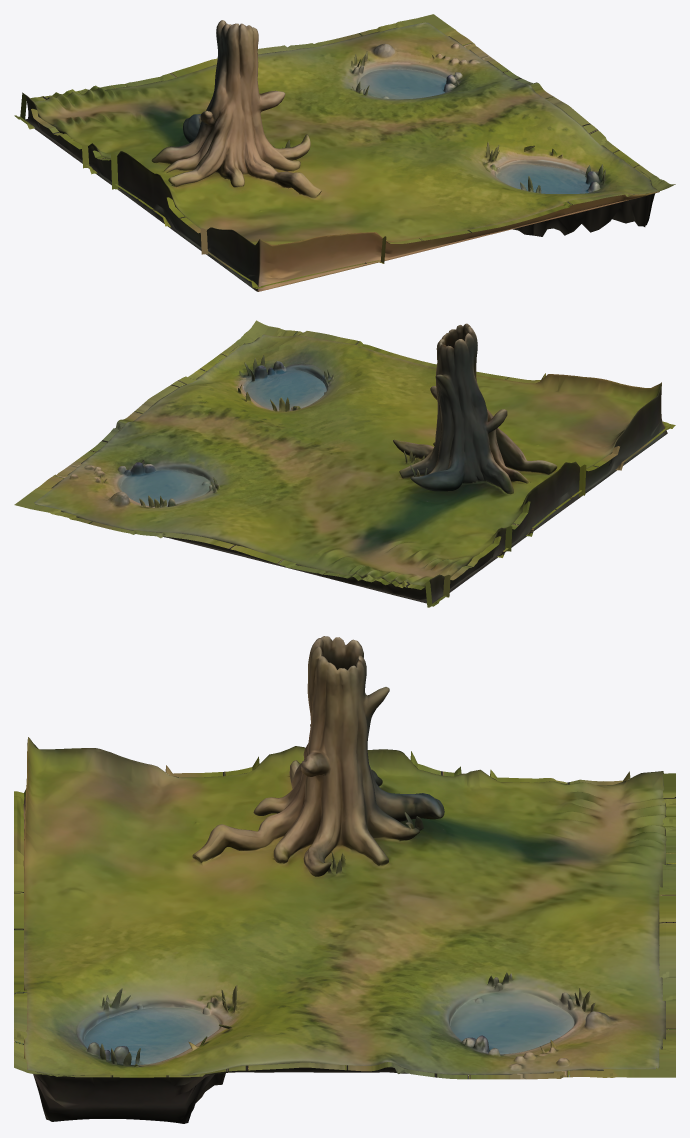
The model's file is terrain2.glb.
The picture shows the model from 3 angles, top to bottom: view 1: azimuth 30°, elevation 25°; view 2: azimuth 150°, elevation 25°; view 3: azimuth 270°, elevation 25°; orthographic projection. The views are drawn at different scales.
Visible parts, largest first — view 1: tripo_node_ec5293a2-2019-44cf-8b07-ed04359cd265; view 2: tripo_node_ec5293a2-2019-44cf-8b07-ed04359cd265; view 3: tripo_node_ec5293a2-2019-44cf-8b07-ed04359cd265.
Boxes of the visible parts, x1,y1,x2,y2 form: tripo_node_ec5293a2-2019-44cf-8b07-ed04359cd265: (14,14,675,291); tripo_node_ec5293a2-2019-44cf-8b07-ed04359cd265: (14,320,675,607); tripo_node_ec5293a2-2019-44cf-8b07-ed04359cd265: (14,636,675,1123).
Bounding box in the file's own units: 100 × 47.57 × 100.
1 material, 1 textured.
